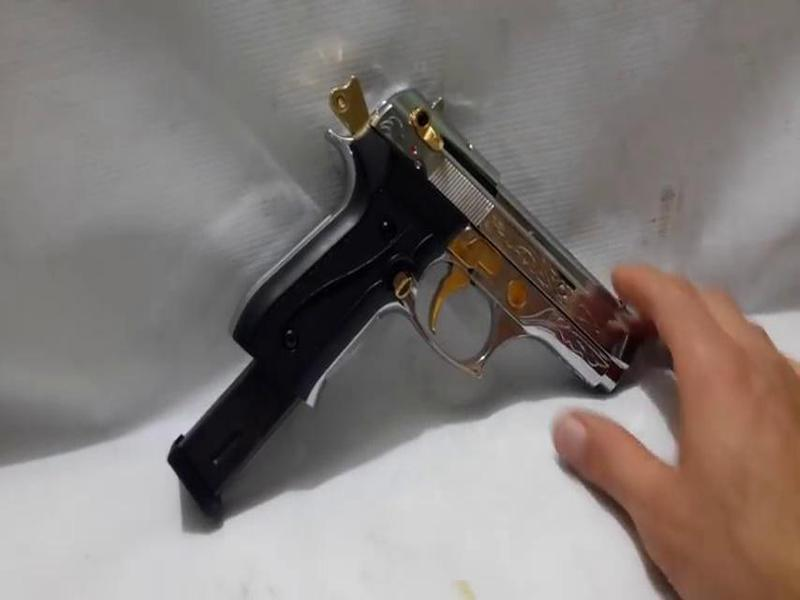Pistola: (208, 64, 642, 423)
